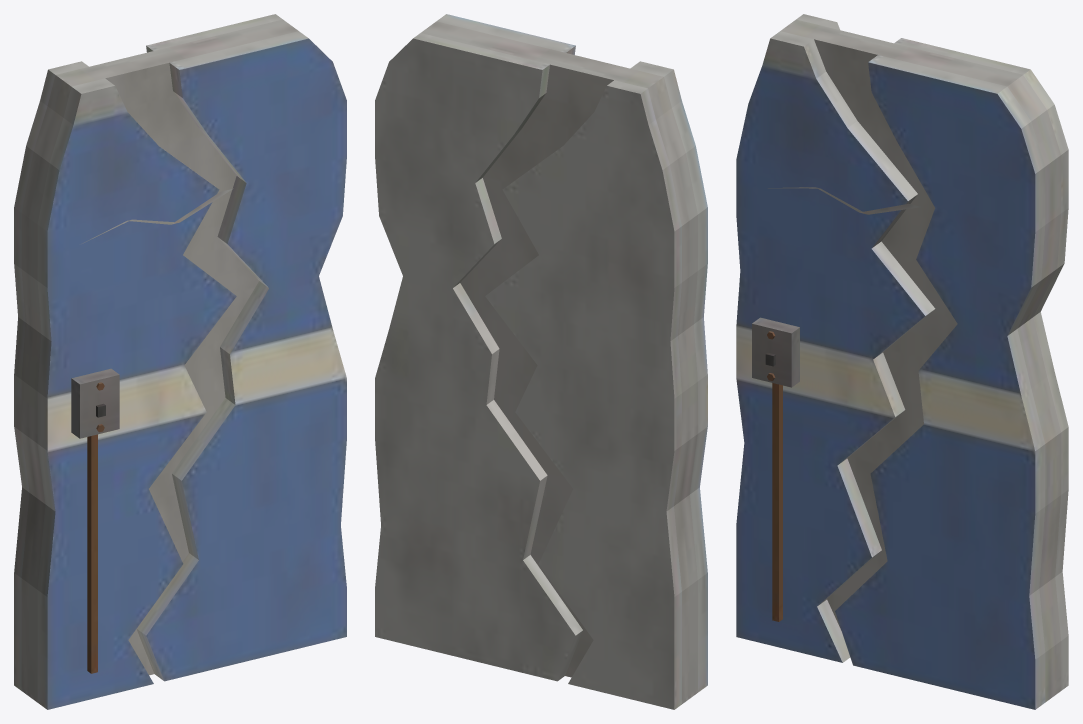
The model's file is BR16_cracked_wall_panel_v3.glb.
The picture shows the model from 3 angles, left to right: view 1: azimuth 30°, elevation 25°; view 2: azimuth 150°, elevation 25°; view 3: azimuth 330°, elevation 25°; orthographic projection.
Visible parts, largest first — view 1: Recessed masonry core; view 2: Recessed masonry core; view 3: Recessed masonry core.
Boxes of the visible parts, bbox=[...] form: Recessed masonry core: bbox=[14, 14, 346, 709]; Recessed masonry core: bbox=[375, 14, 707, 709]; Recessed masonry core: bbox=[736, 14, 1068, 709].
Size of the model in its own units: 1.55 by 3 by 0.3938.
Materials: 7 (7 with a texture image).
